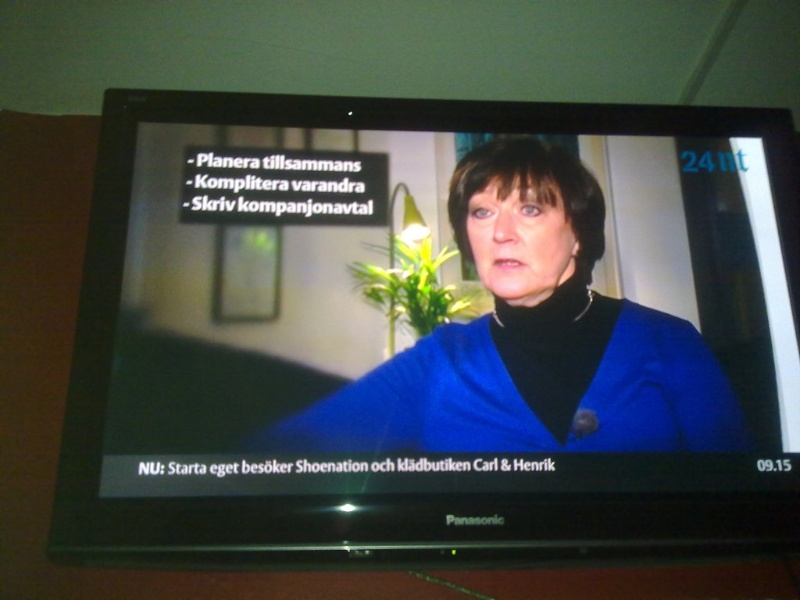tv: (48, 82, 800, 574)
